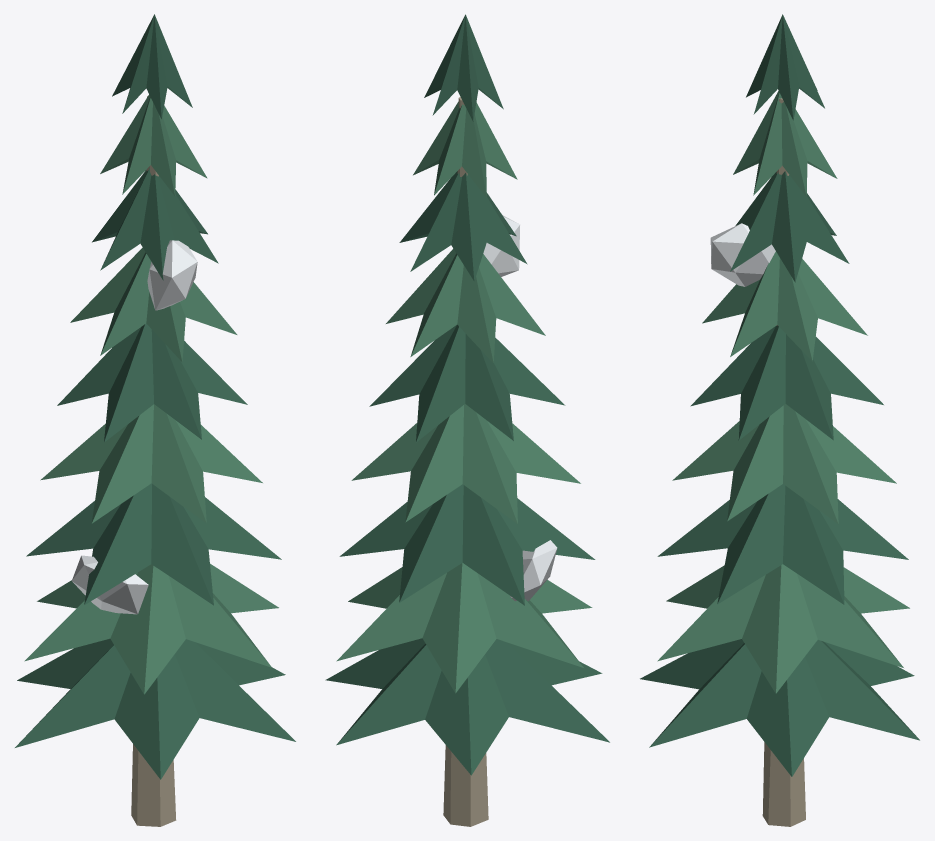
The model's file is SM_Tree_Conifer_Winter_04.glb.
3 views of the same model, side by side, from view 1: azimuth 30°, elevation 25°; view 2: azimuth 150°, elevation 25°; view 3: azimuth 270°, elevation 25° (orthographic).
Visible parts, largest first — view 1: SM_Tree_Conifer_Winter_04; view 2: SM_Tree_Conifer_Winter_04; view 3: SM_Tree_Conifer_Winter_04.
Boxes of the visible parts, bbox=[...] form: SM_Tree_Conifer_Winter_04: bbox=[15, 14, 295, 826]; SM_Tree_Conifer_Winter_04: bbox=[325, 14, 609, 826]; SM_Tree_Conifer_Winter_04: bbox=[640, 14, 919, 826].
Bounding box in the file's own units: 2.27 × 6.25 × 1.98.
